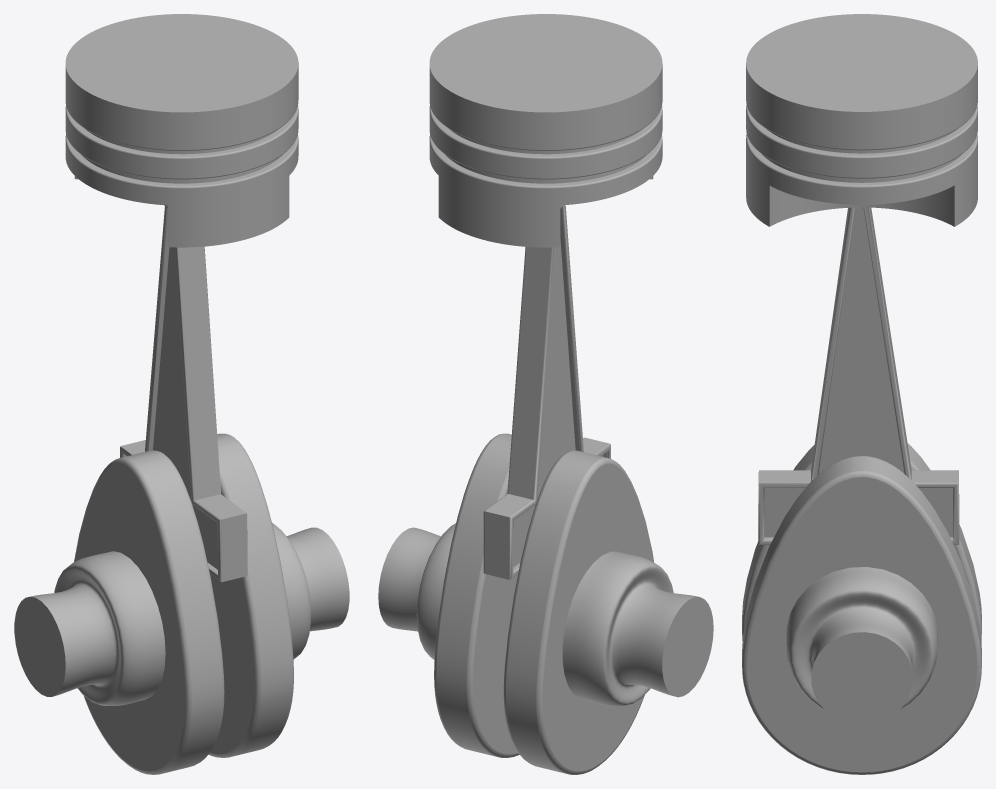
File: piston.fbx
3 views of the same model, side by side, from view 1: azimuth 30°, elevation 25°; view 2: azimuth 150°, elevation 25°; view 3: azimuth 270°, elevation 25° (orthographic).
Visible parts, largest first — view 1: Cuts; view 2: Cuts; view 3: Cuts.
Boxes of the visible parts, x1,y1,x2,y2 form: Cuts: [14, 14, 349, 774]; Cuts: [378, 14, 713, 774]; Cuts: [742, 14, 981, 774].
Bounding box in the file's own units: 28.91 × 67.21 × 21.26.
1 material, 1 textured.
